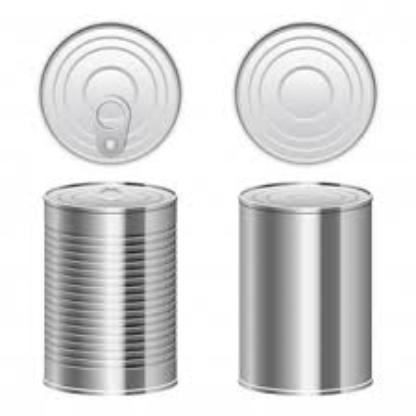Can: (240, 181, 374, 397), (43, 183, 179, 395), (38, 21, 184, 167), (234, 21, 378, 167)
